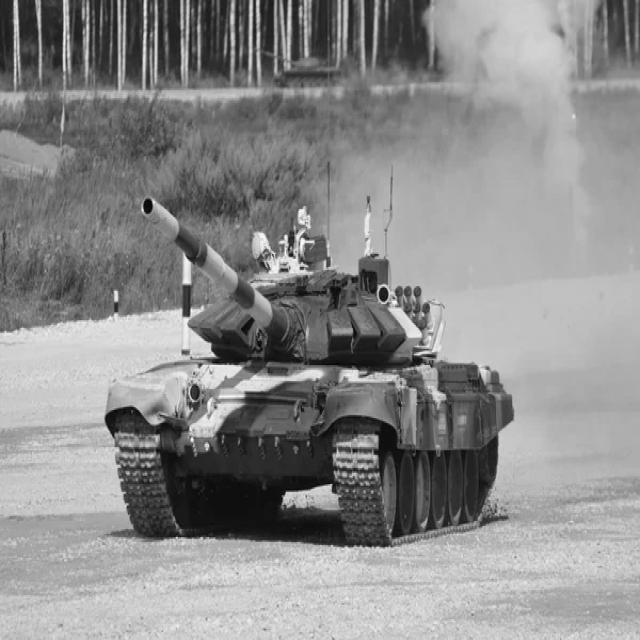Tank: (100, 163, 521, 555)
